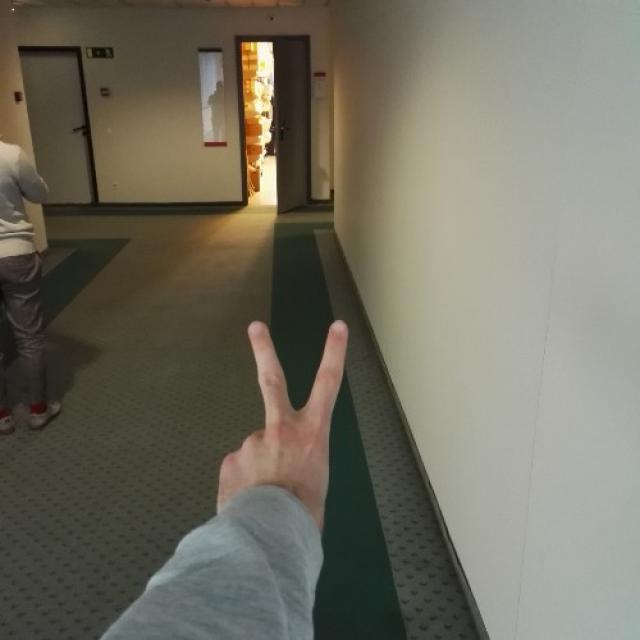scissors: (220, 316, 352, 499)
